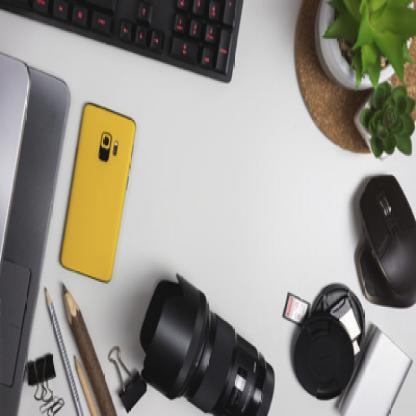cell-phone: (55, 100, 147, 286)
